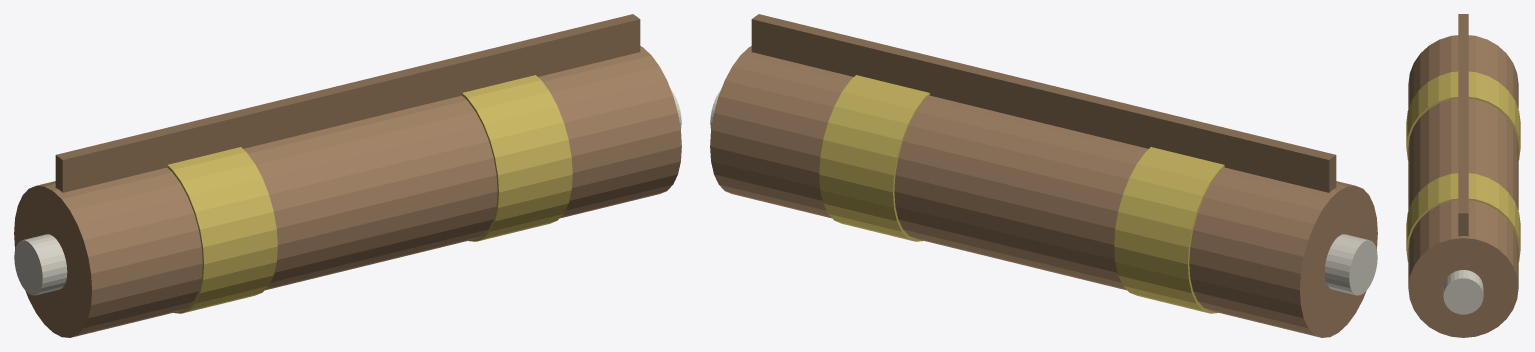
File: batik-roll.glb
3 views of the same model, side by side, from view 1: azimuth 30°, elevation 25°; view 2: azimuth 150°, elevation 25°; view 3: azimuth 270°, elevation 25° (orthographic). The views are drawn at different scales.
Visible parts, largest first — view 1: geometry_0, geometry_4, geometry_1, geometry_2, geometry_3; view 2: geometry_0, geometry_4, geometry_1, geometry_2, geometry_3; view 3: geometry_0, geometry_2, geometry_1, geometry_4, geometry_3.
Part boxes in pixels (x1,y1,x2,y2): geometry_0: (14,46,681,337); geometry_4: (55,14,640,192); geometry_1: (462,75,572,241); geometry_2: (167,147,277,313); geometry_3: (14,90,681,295); geometry_0: (710,46,1377,337); geometry_4: (751,14,1336,192); geometry_1: (819,75,929,241); geometry_2: (1114,147,1224,313); geometry_3: (710,90,1377,295); geometry_0: (1408,35,1518,337); geometry_2: (1406,71,1520,160); geometry_1: (1406,173,1520,261); geometry_4: (1458,14,1468,236); geometry_3: (1443,270,1483,314).
Size of the model in its own units: 0.52 by 0.137 by 0.114.
